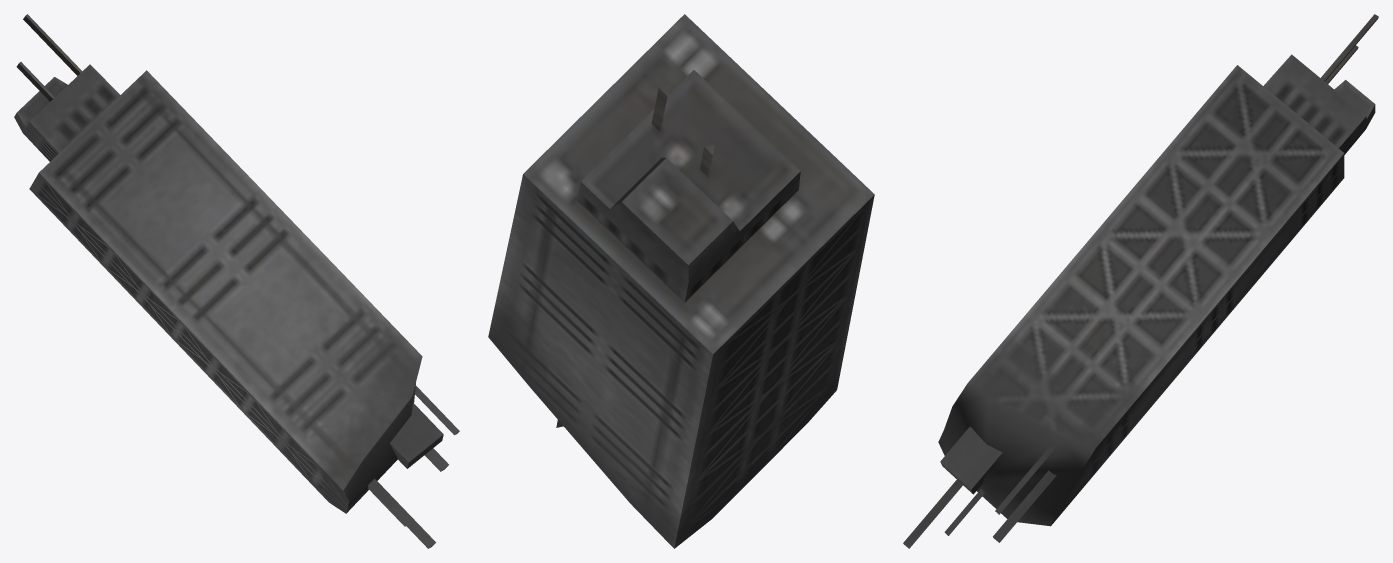
File: skyBuildingAAA_pos_grp (15).fbx
The picture shows the model from 3 angles, left to right: view 1: azimuth 30°, elevation 25°; view 2: azimuth 150°, elevation 25°; view 3: azimuth 270°, elevation 25°; orthographic projection. The views are drawn at different scales.
Parts seen in each view (by area): view 1: skyBuildingAAA_geo; view 2: skyBuildingAAA_geo; view 3: skyBuildingAAA_geo.
Boxes of the visible parts, x1,y1,x2,y2 form: skyBuildingAAA_geo: [14, 14, 459, 548]; skyBuildingAAA_geo: [488, 14, 874, 548]; skyBuildingAAA_geo: [903, 14, 1378, 548].
Size of the model in its own units: 4.42 by 5.72 by 5.62.
Materials: 1 (1 with a texture image).
